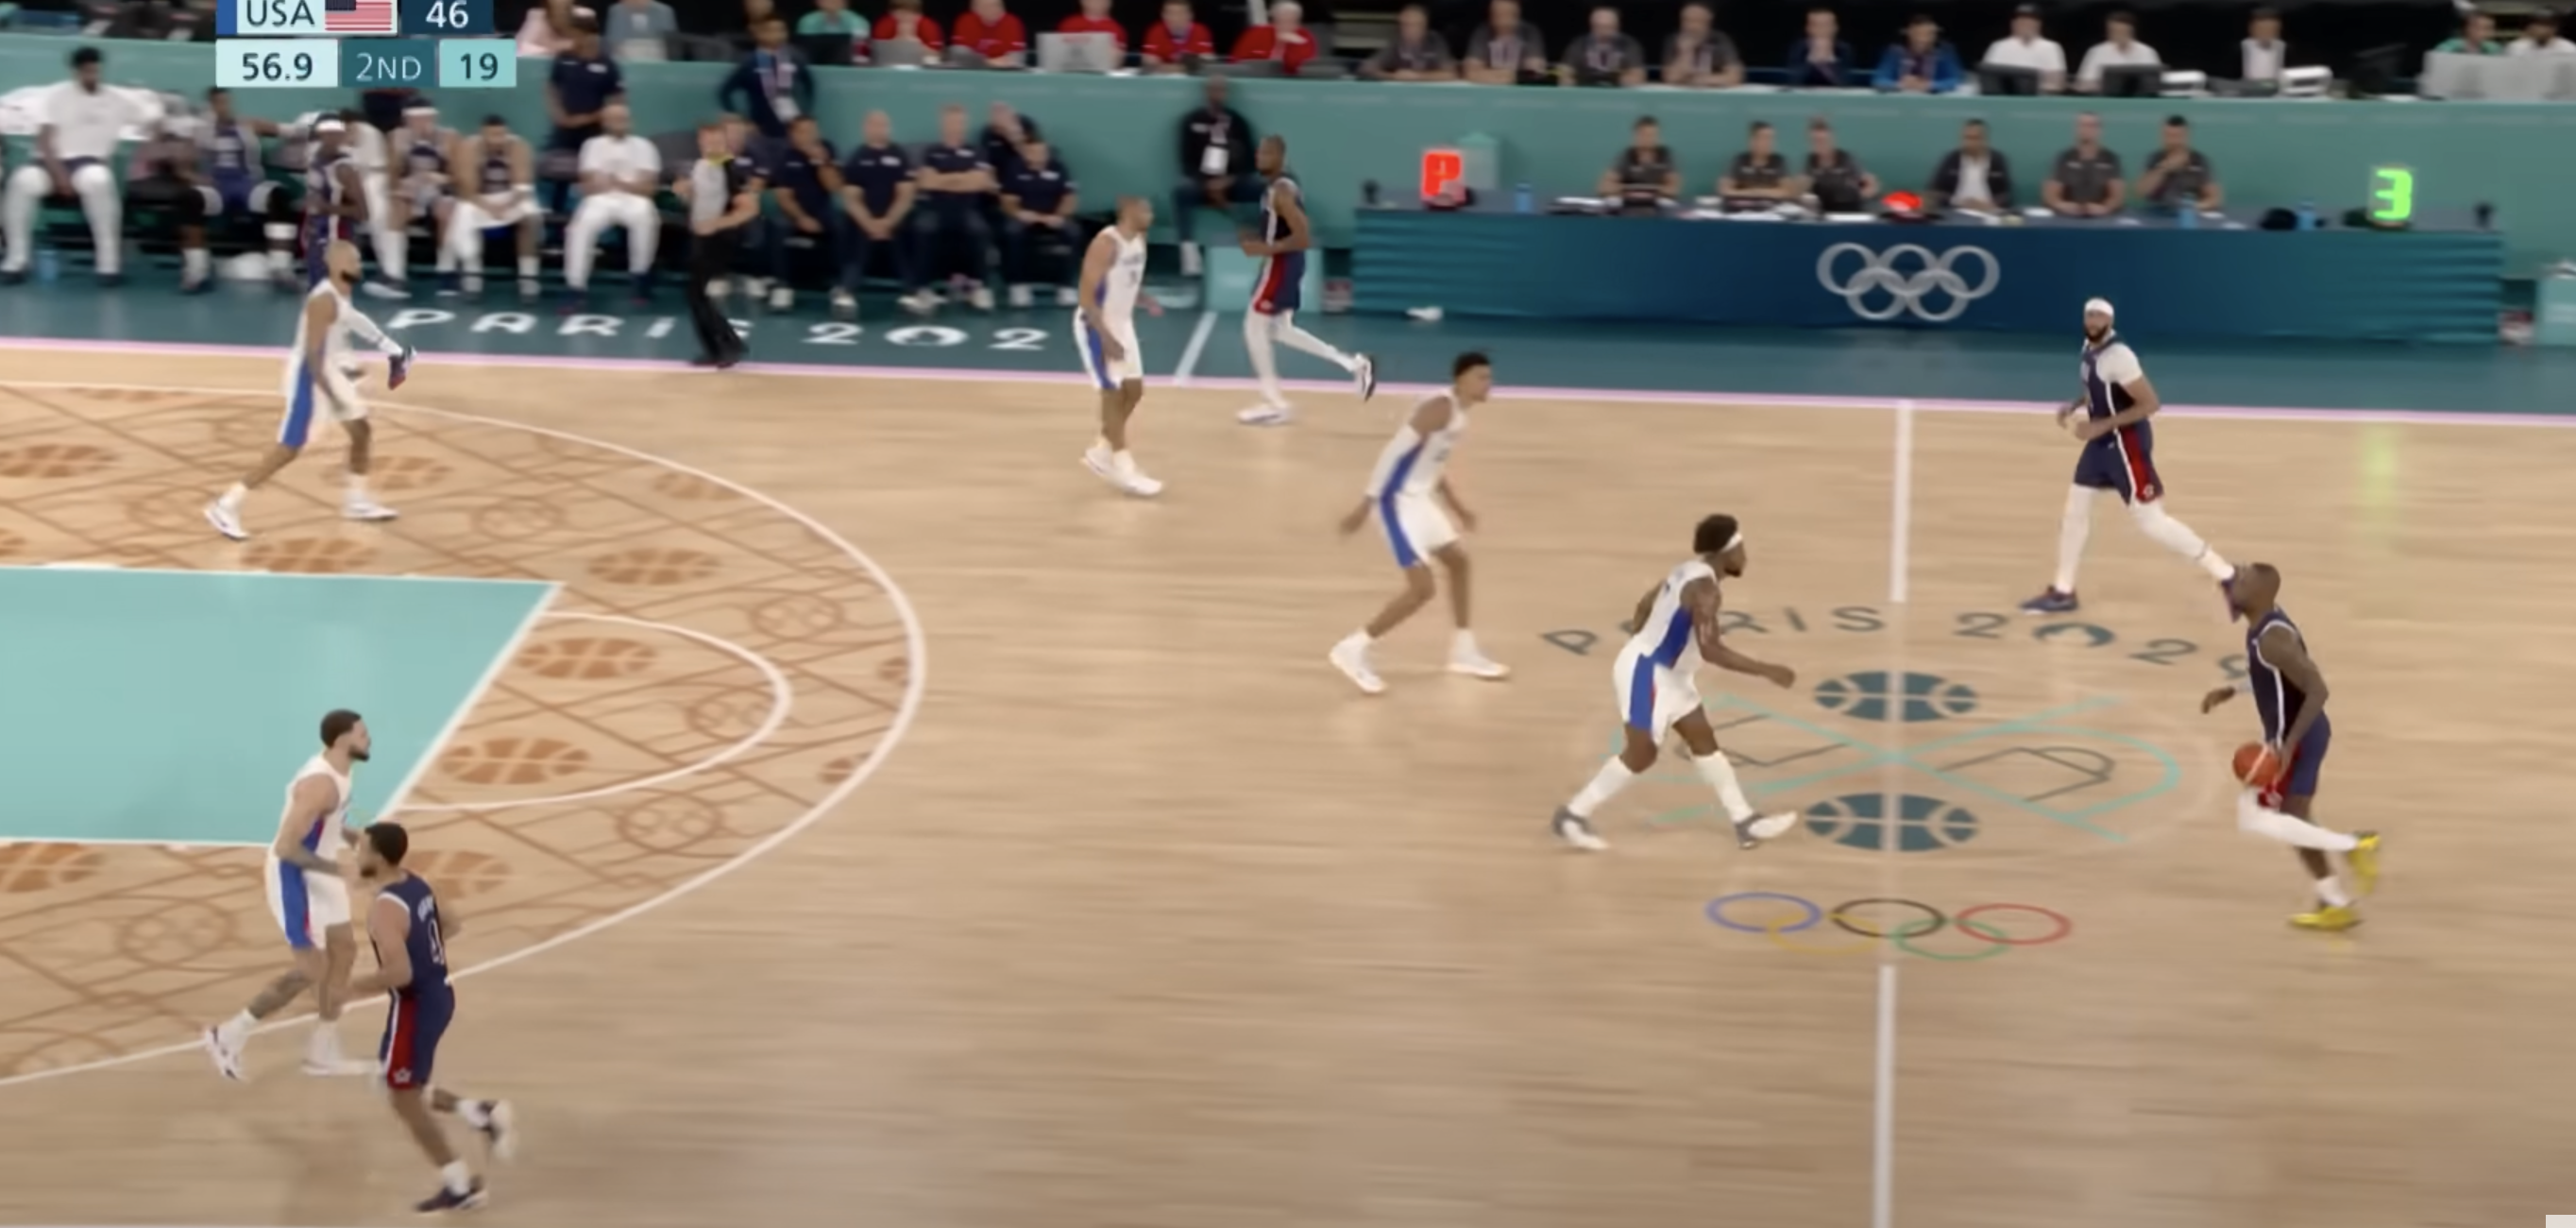key: (5, 561, 785, 848)
